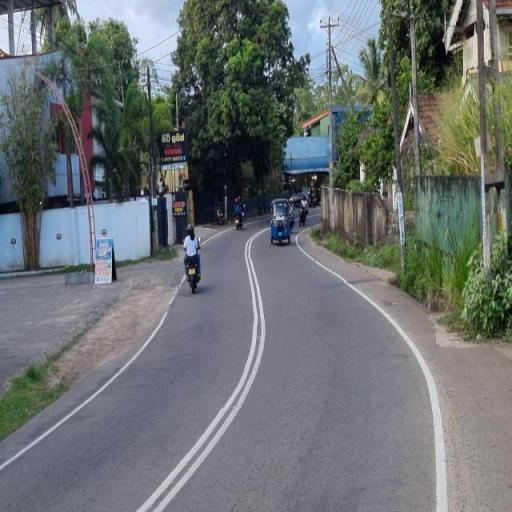double_white_line: (136, 230, 267, 511)
